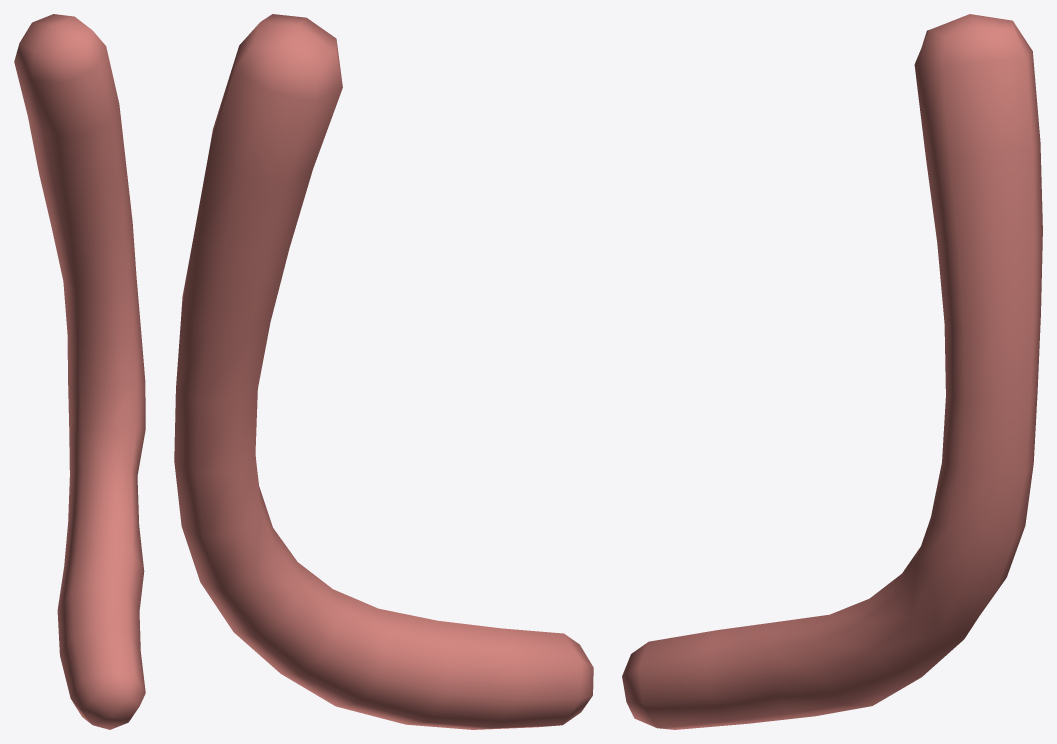
3 renders of one model, left to right at view 1: azimuth 30°, elevation 25°; view 2: azimuth 150°, elevation 25°; view 3: azimuth 270°, elevation 25°, orthographic. The views are drawn at different scales.
Visible parts, largest first — view 1: ZA_419f3fa026101462; view 2: ZA_419f3fa026101462; view 3: ZA_419f3fa026101462.
Part boxes in pixels (x1,y1,x2,y2): ZA_419f3fa026101462: (14,14,145,729); ZA_419f3fa026101462: (174,14,593,729); ZA_419f3fa026101462: (622,14,1042,729).
Size of the model in its own units: 0.0211 by 0.0665 by 0.0336.
